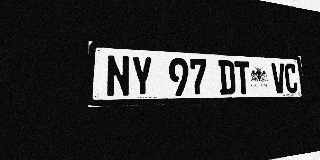7: (188, 58, 208, 95)
9: (169, 58, 189, 96)
C: (284, 63, 298, 93)
D: (218, 60, 236, 95)
N: (106, 54, 130, 97)
T: (234, 61, 251, 94)
V: (271, 63, 286, 94)
Y: (131, 56, 153, 97)
